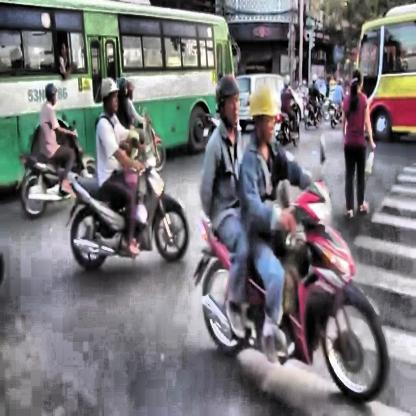not_wear: (248, 81, 281, 141), (350, 67, 365, 94)
wear: (215, 71, 241, 129), (99, 74, 120, 118), (43, 80, 58, 106)
